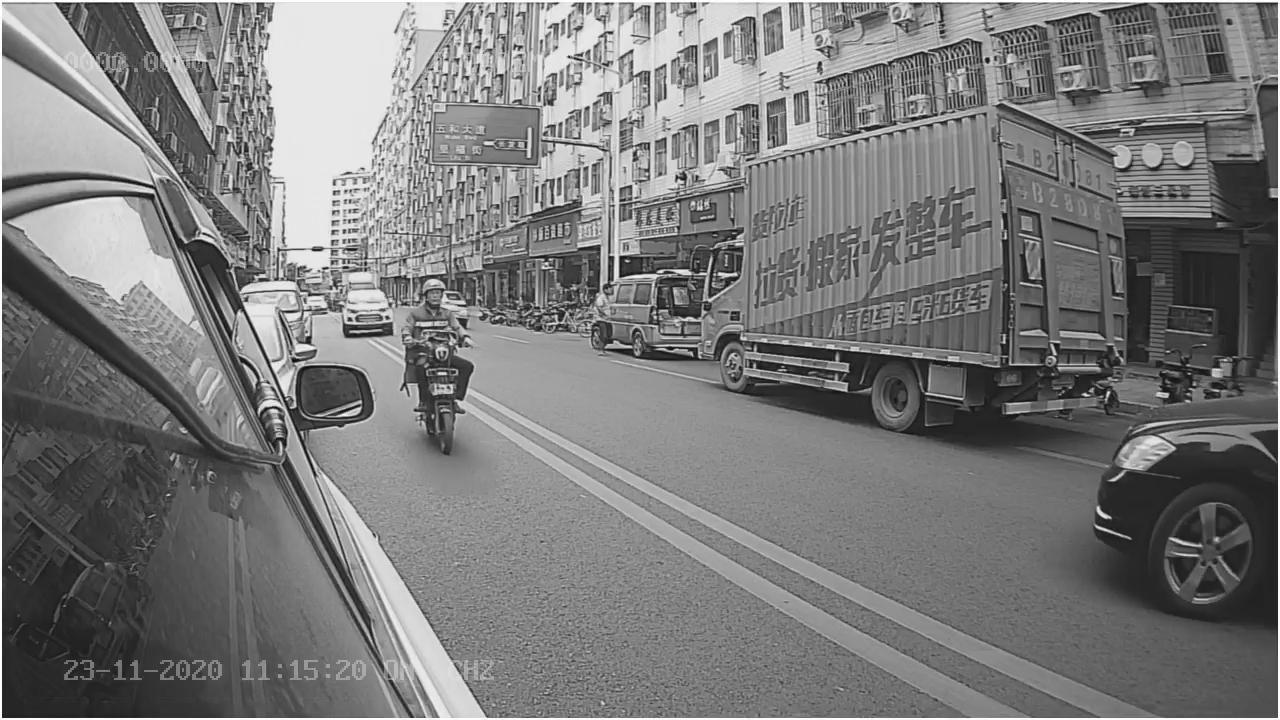person: (401, 280, 470, 347)
